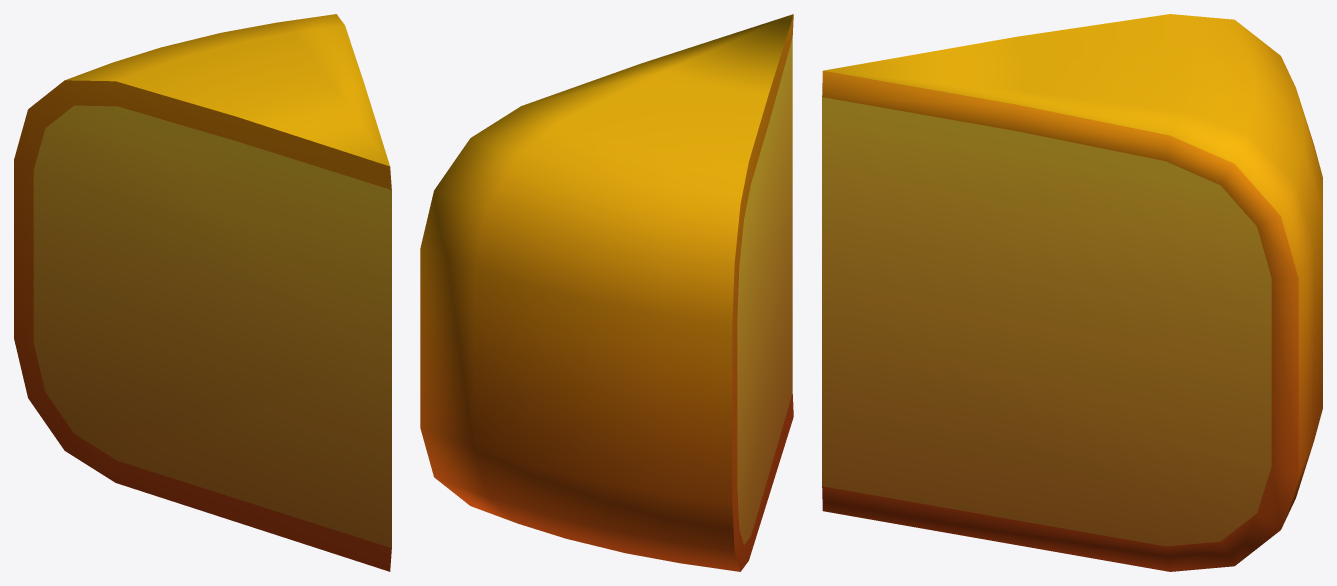
Rendered from Yellow_Cheese_Slice_01.glb.
3 views of the same model, side by side, from view 1: azimuth 30°, elevation 25°; view 2: azimuth 150°, elevation 25°; view 3: azimuth 270°, elevation 25° (orthographic). The views are drawn at different scales.
Visible parts, largest first — view 1: Yellow_Cheese_Slice_01; view 2: Yellow_Cheese_Slice_01; view 3: Yellow_Cheese_Slice_01.
Part boxes in pixels (box(x1,y1,x2,y2)): Yellow_Cheese_Slice_01: box(14, 14, 391, 571); Yellow_Cheese_Slice_01: box(420, 14, 793, 571); Yellow_Cheese_Slice_01: box(822, 14, 1322, 571).
Size of the model in its own units: 0.2414 by 0.2977 by 0.3067.
Materials: 1 (1 with a texture image).
